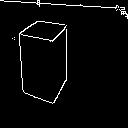cube: (12, 18, 81, 107)
